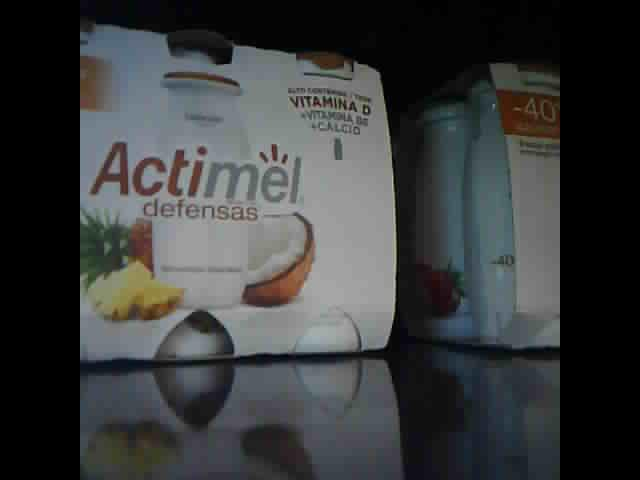actimel: (79, 10, 398, 368), (405, 54, 560, 356)
